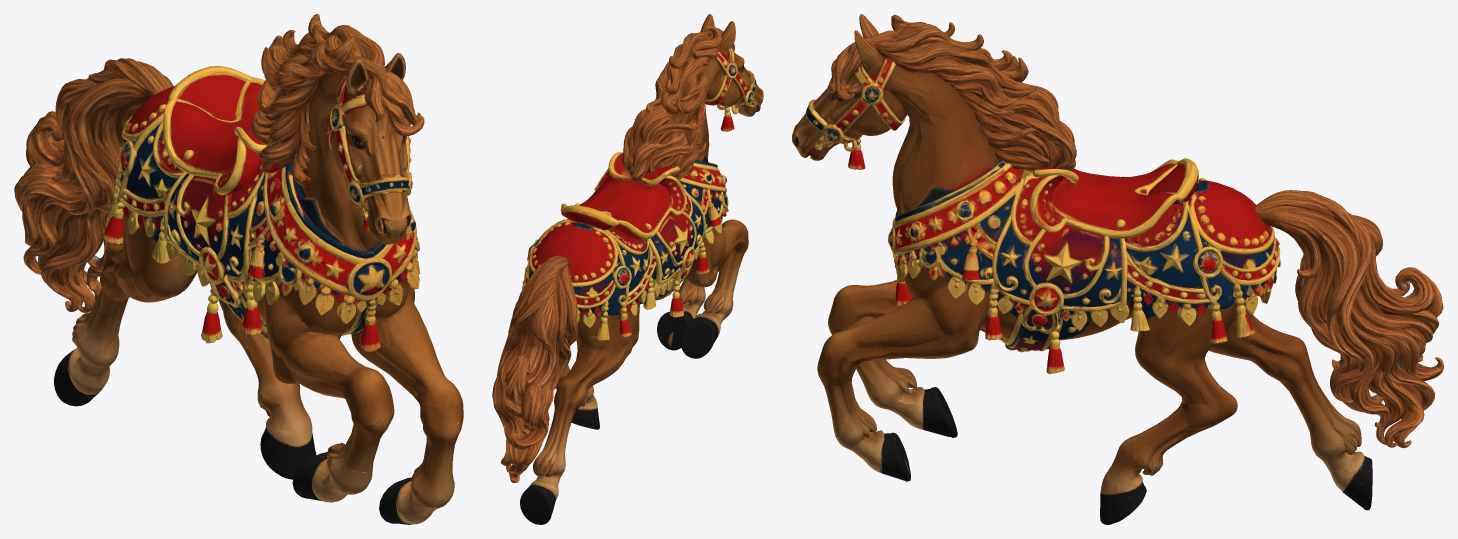
The model's file is brown-horse.glb.
The picture shows the model from 3 angles, left to right: view 1: azimuth 30°, elevation 25°; view 2: azimuth 150°, elevation 25°; view 3: azimuth 270°, elevation 25°; orthographic projection. The views are drawn at different scales.
Bounding box in the file's own units: 0.5194 × 1.59 × 1.91.
1 material, 1 textured.
